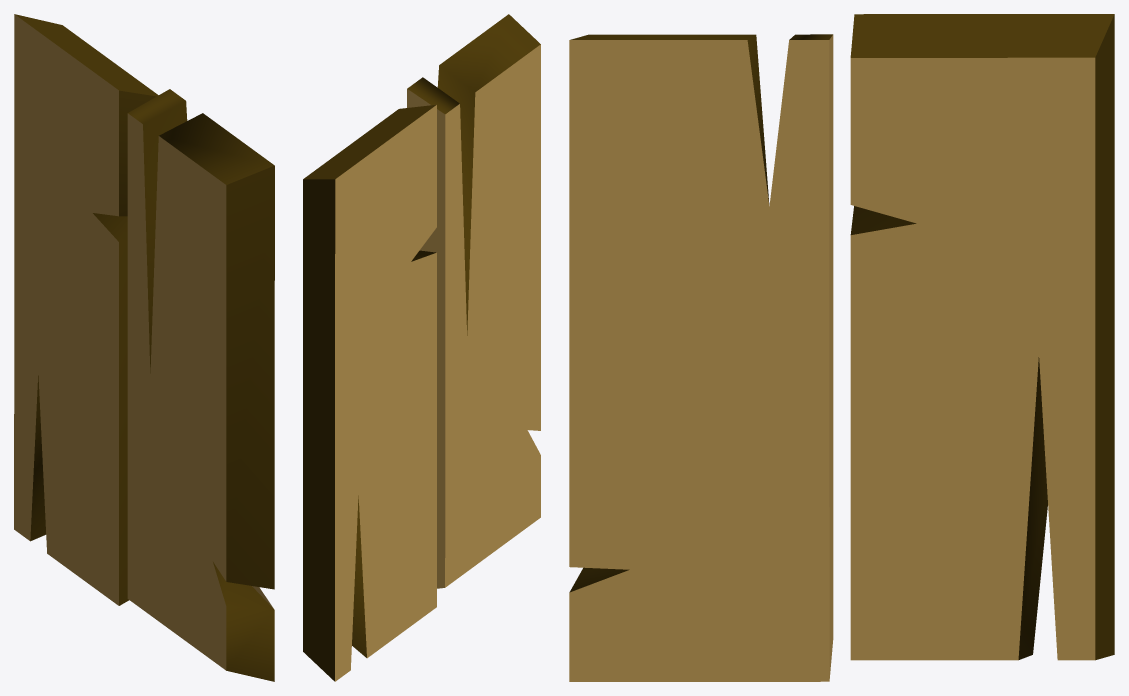
Rendered from shackside3.fbx.
3 renders of one model, left to right at view 1: azimuth 30°, elevation 25°; view 2: azimuth 150°, elevation 25°; view 3: azimuth 270°, elevation 25°, orthographic. The views are drawn at different scales.
Parts seen in each view (by area): view 1: shackside3; view 2: shackside3; view 3: shackside3.
Part boxes in pixels (x1=…): shackside3: x1=14, y1=14, x2=274, y2=681; shackside3: x1=303, y1=14, x2=540, y2=681; shackside3: x1=569, y1=14, x2=1114, y2=681.
Size of the model in its own units: 1.77 by 21.2 by 16.3.
